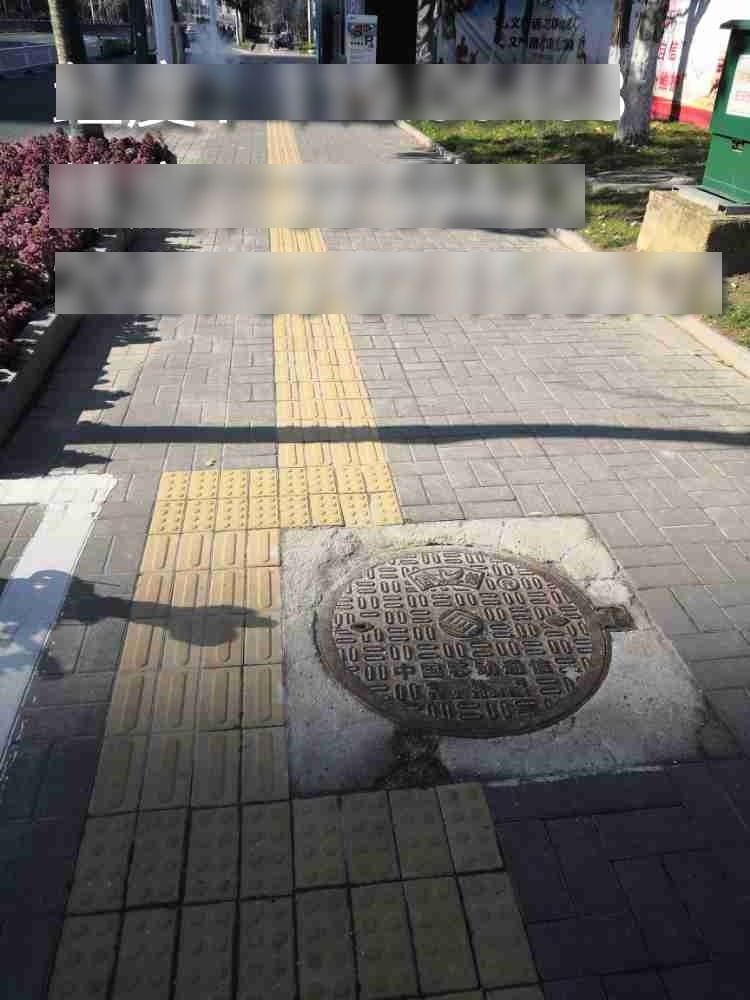good: (316, 543, 640, 740)
